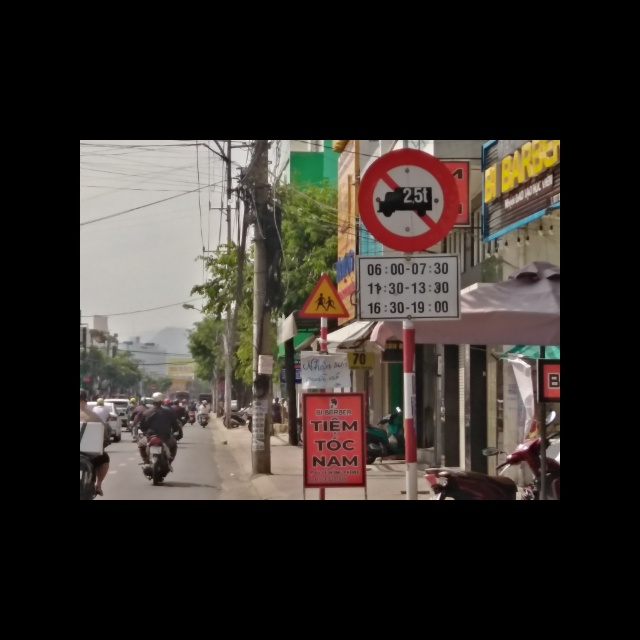Cấm xe tải: (354, 150, 462, 254)
Trẻ em ngang qua: (298, 274, 350, 319)
